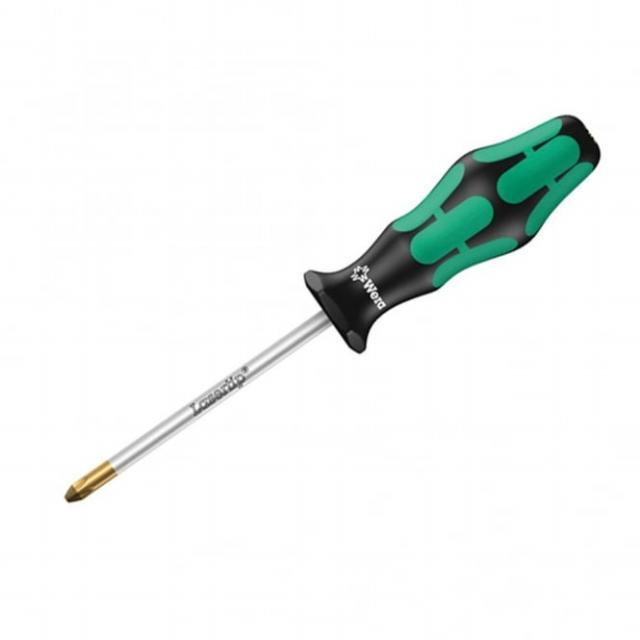screwdriver: (58, 110, 604, 514)
